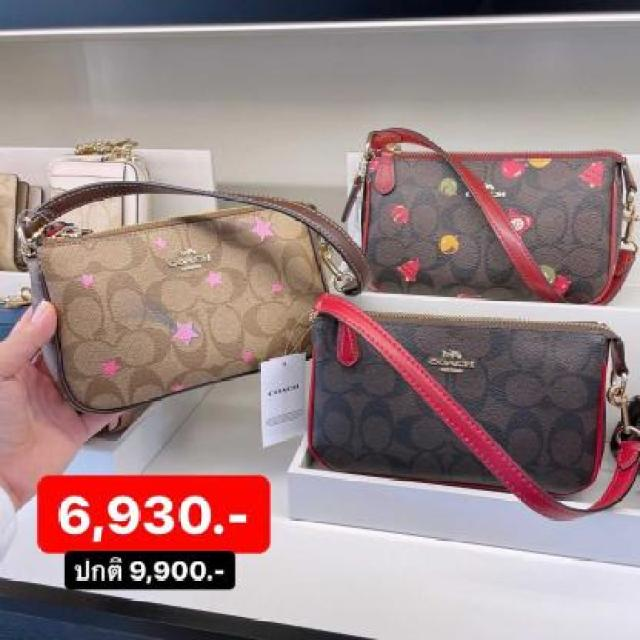Bag: (0, 122, 369, 426), (294, 285, 640, 529), (341, 98, 640, 316)
